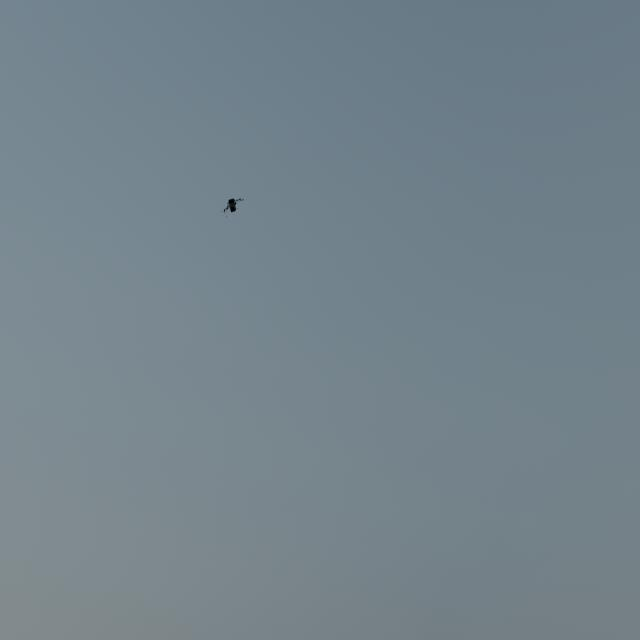drone: (221, 198, 244, 217)
